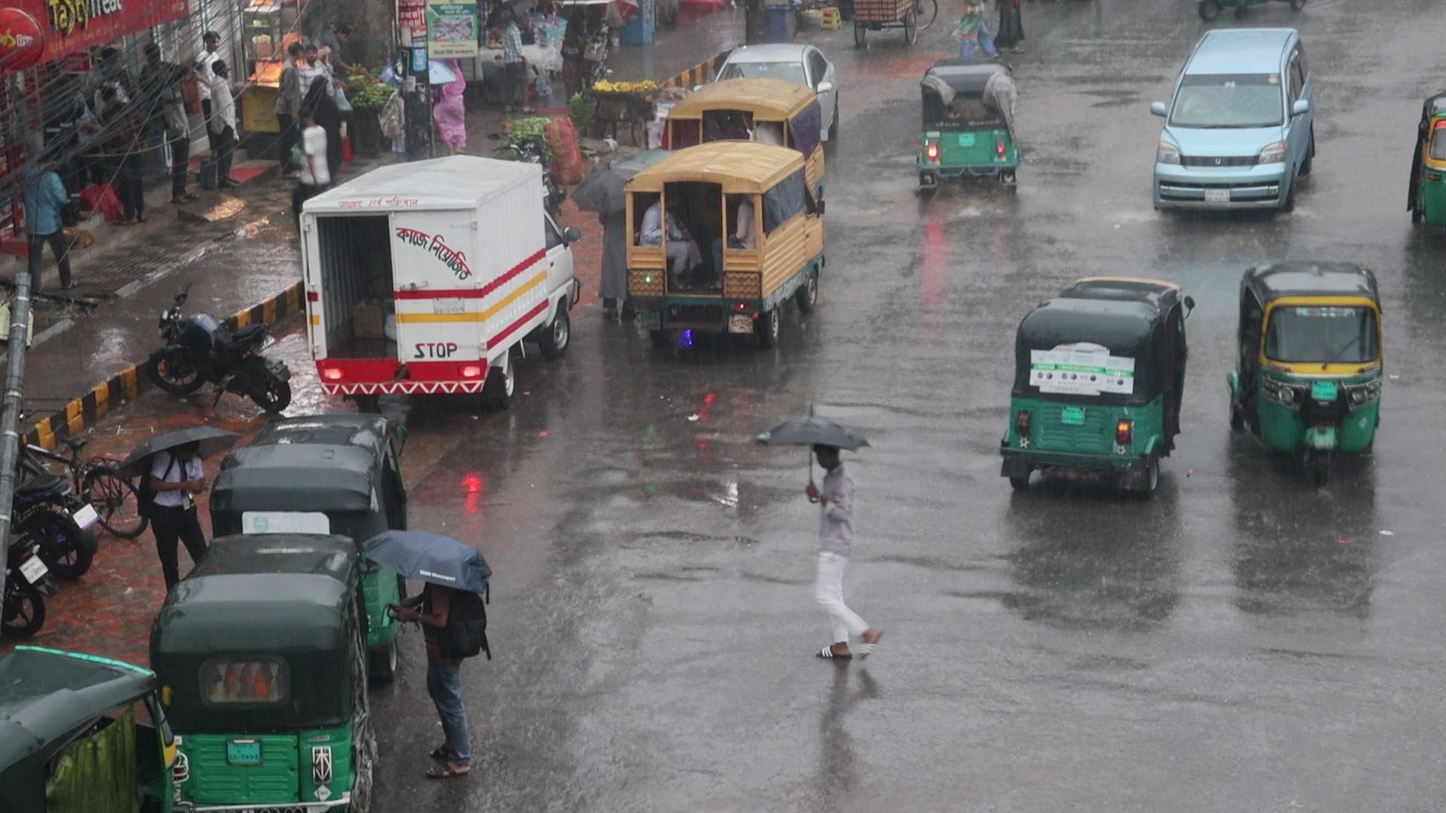Car: (1141, 20, 1322, 218)
Truck: (615, 124, 828, 353)
